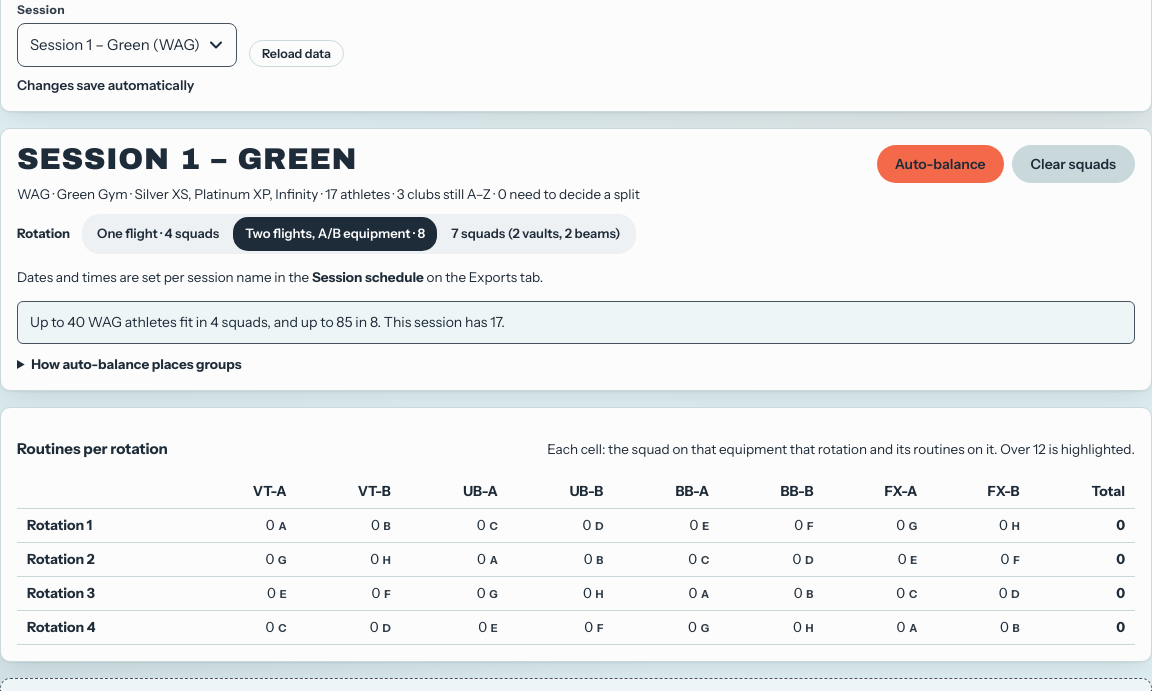
Scenario: Squads screen › swap all groups with another squad trades them, keeps the letters and says where they now start
Expected: the heading "Session 1 – Green" is shown, [17,143,357,175]
Click the button "One flight · 4 squads" at [158, 234], box [85,217,231,250]
(page scrolled)
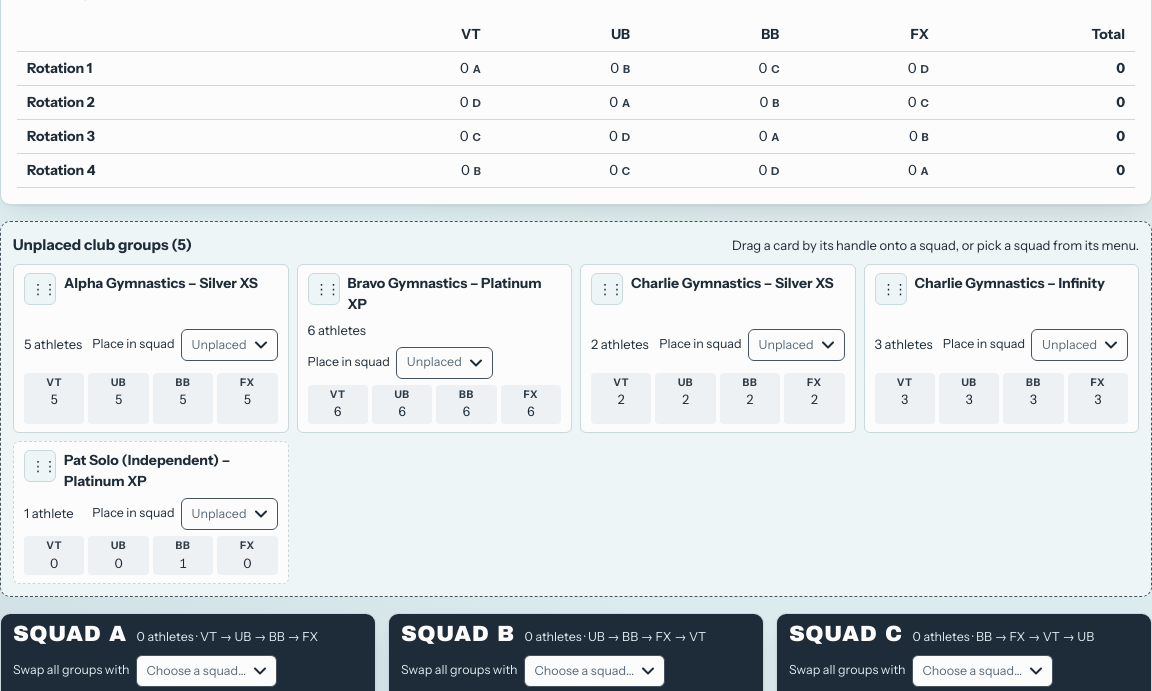
Click the dropdown named "Place in squad: Alpha Gymnastics – Silver XS" at [229, 345], box [181,329,278,361]
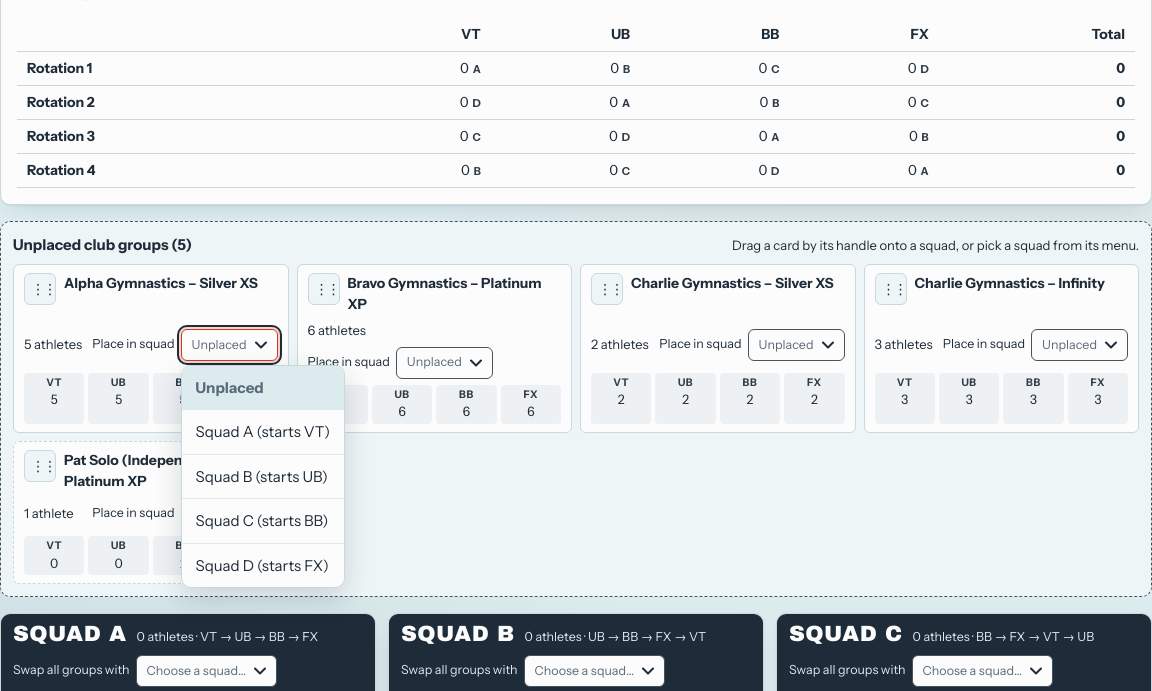
Click the option "Squad A (starts VT)" at [263, 432], box [182,410,344,455]
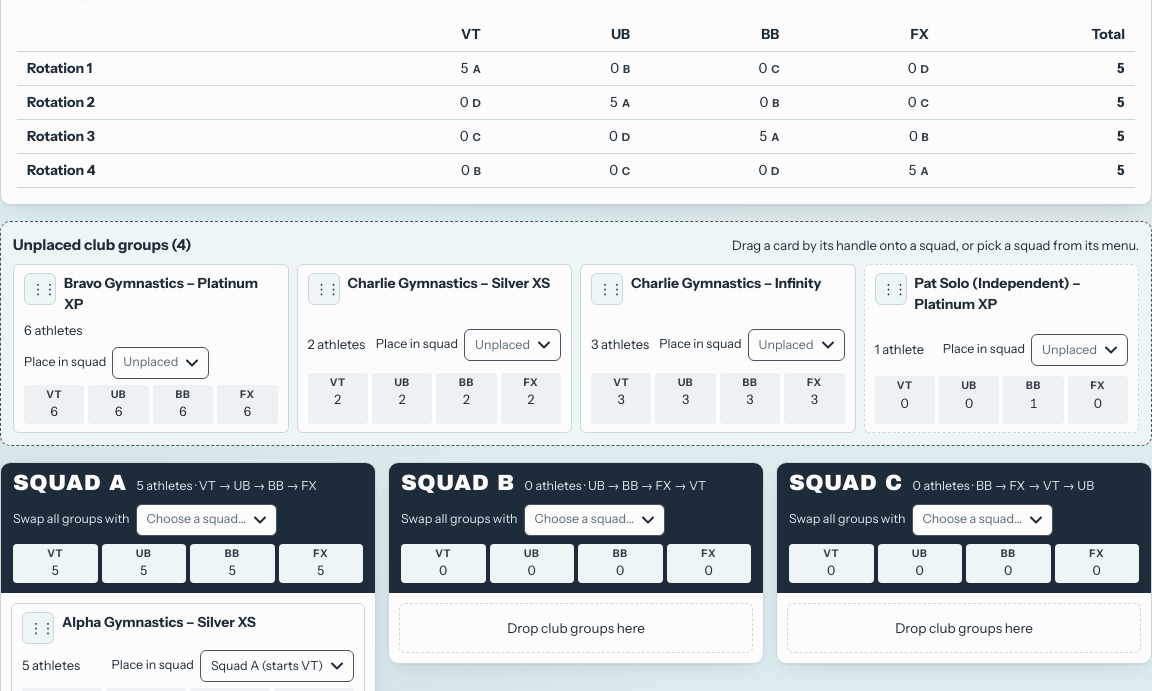
Click the dropdown named "Swap all of Squad A's groups with another squad" at [206, 520], box [136,504,277,536]
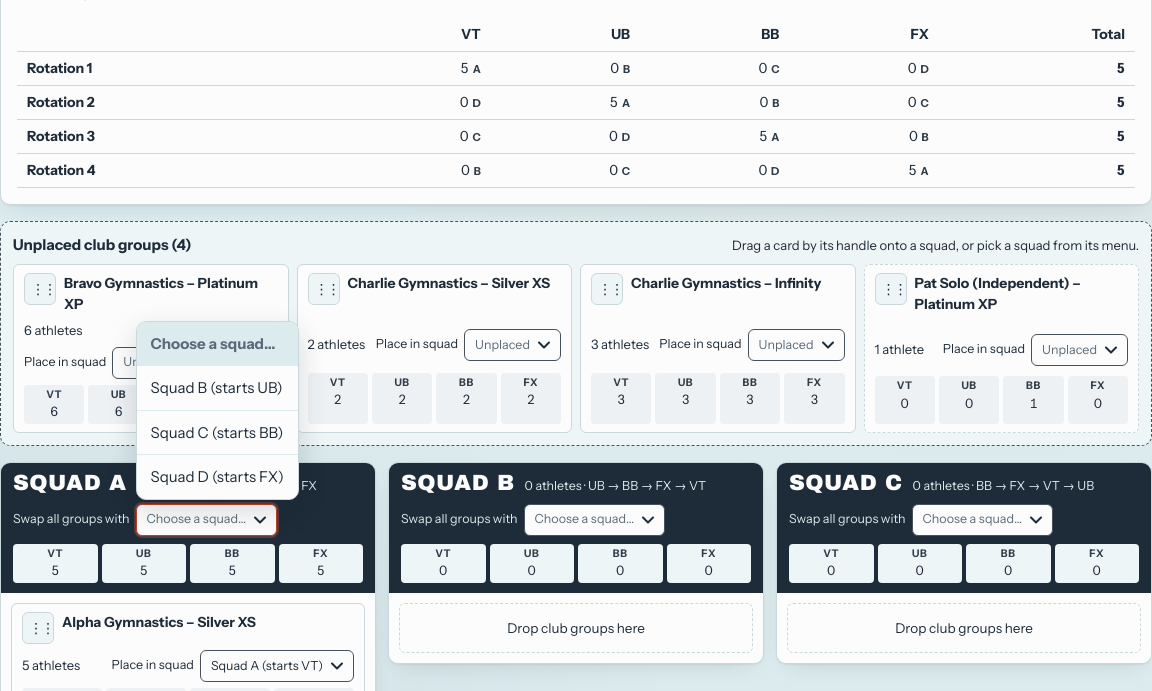
Click the option "Squad C (starts BB)" at [217, 433], box [137,410,298,455]
(page scrolled)
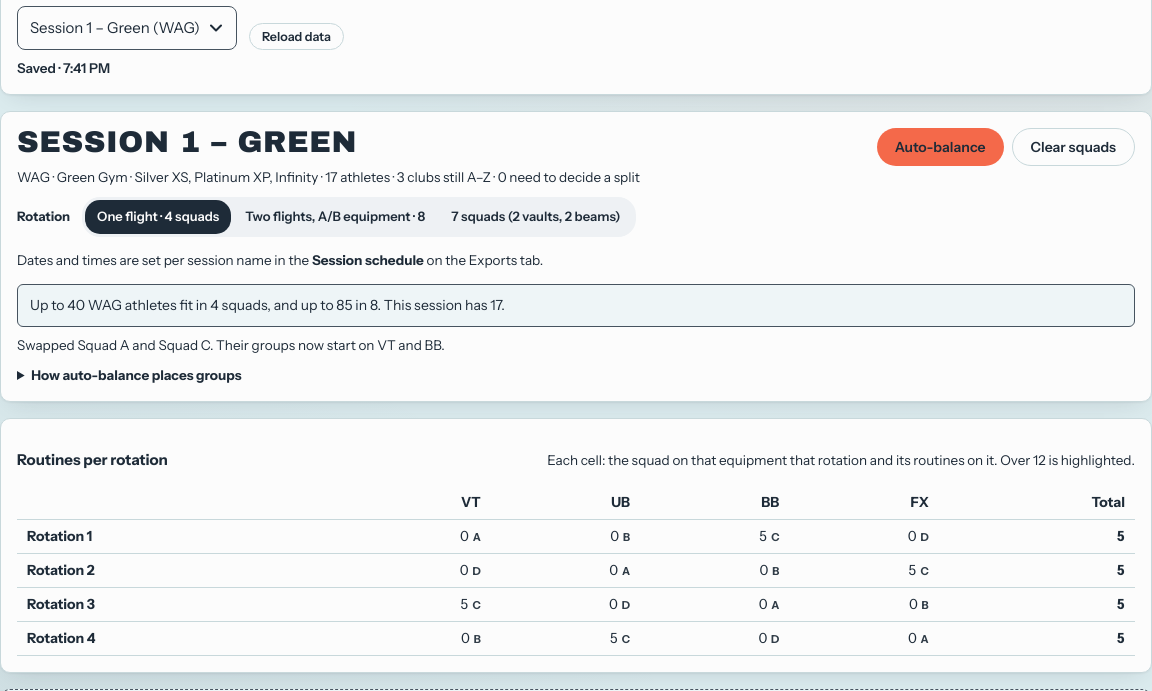
Expected: the text "Alpha Gymnastics – Silver XS" is not shown
Now the text "Swapped Squad A and Squad C. Their groups now start on VT and BB." is shown, box [17,337,445,353]
